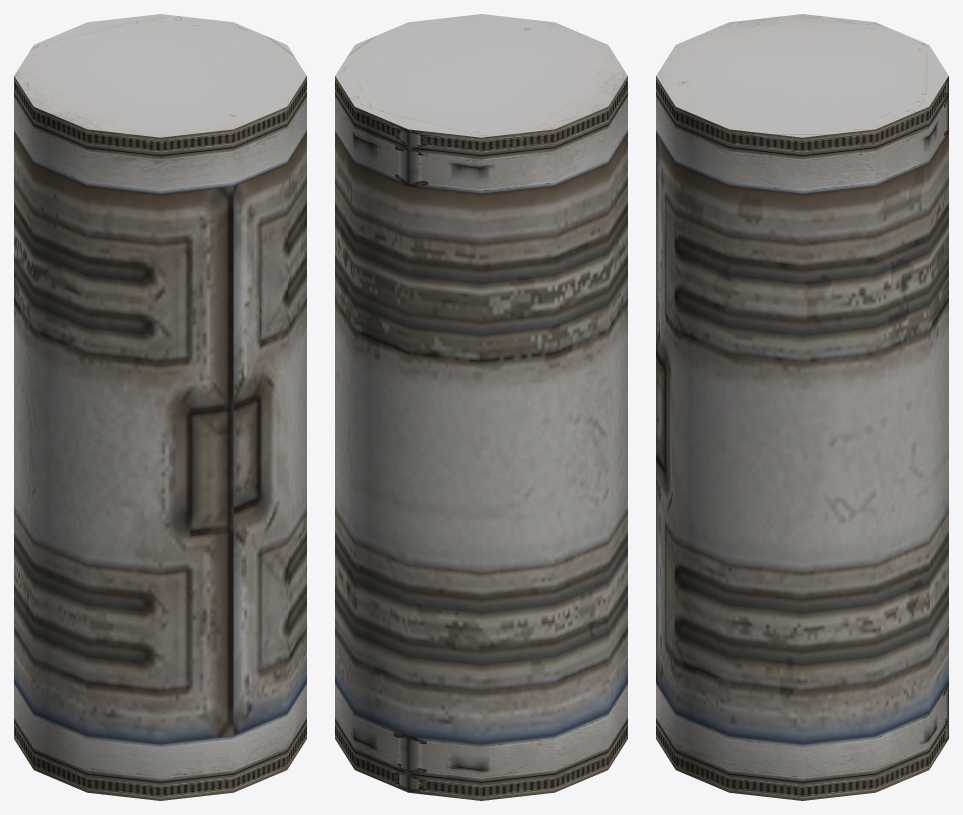
File: scifi_pipe_large_1.FBX
3 views of the same model, side by side, from view 1: azimuth 30°, elevation 25°; view 2: azimuth 150°, elevation 25°; view 3: azimuth 270°, elevation 25° (orthographic).
Parts seen in each view (by area): view 1: Cylinder007; view 2: Cylinder007; view 3: Cylinder007.
Boxes of the visible parts, <box> form: Cylinder007: <box>14,14,306,800</box>; Cylinder007: <box>335,14,627,800</box>; Cylinder007: <box>656,14,948,800</box>.
Bounding box in the file's own units: 102 × 254 × 102.
